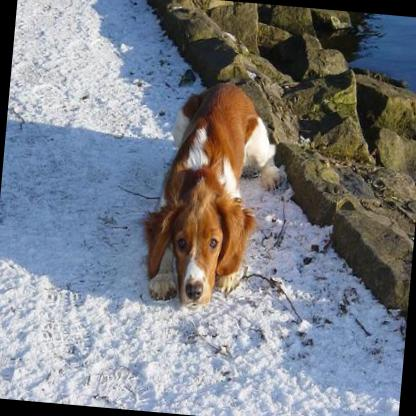Welsh_springer_spaniel: (134, 74, 292, 316)
